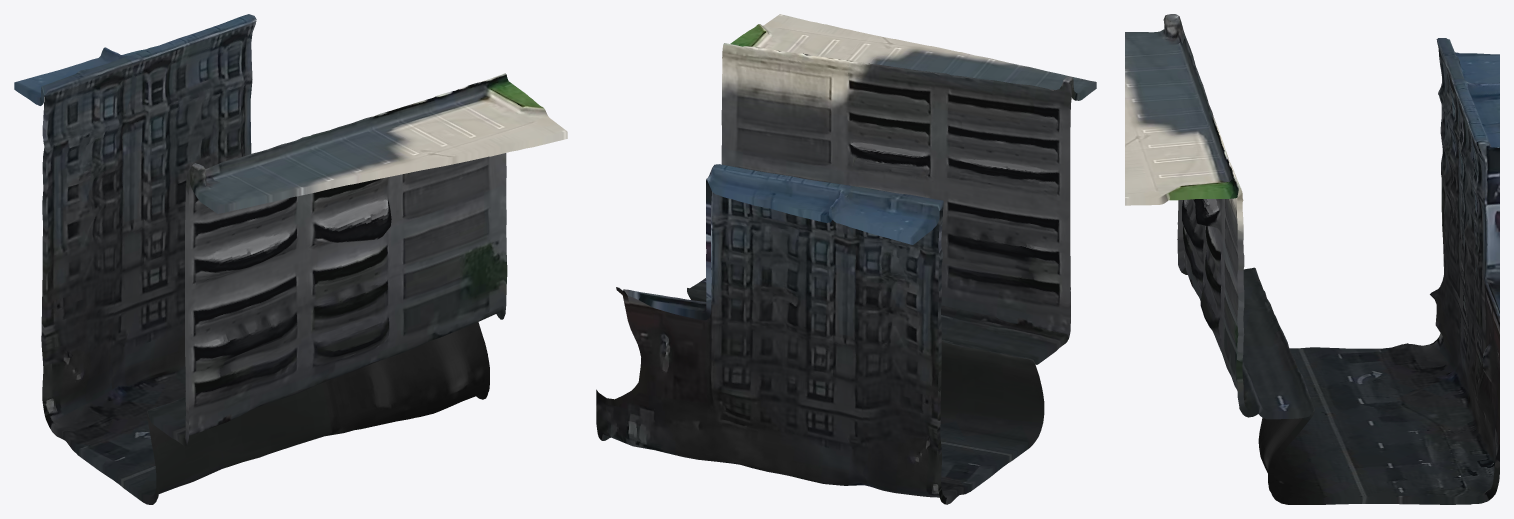
Rendered from z20-167751-405240-h0-yup-uvflip-v3-world.glb.
3 views of the same model, side by side, from view 1: azimuth 30°, elevation 25°; view 2: azimuth 150°, elevation 25°; view 3: azimuth 270°, elevation 25° (orthographic). The views are drawn at different scales.
Size of the model in its own units: 30.16 by 30.68 by 30.32.
Materials: 1 (1 with a texture image).
